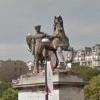Statue: (15, 11, 80, 68)
